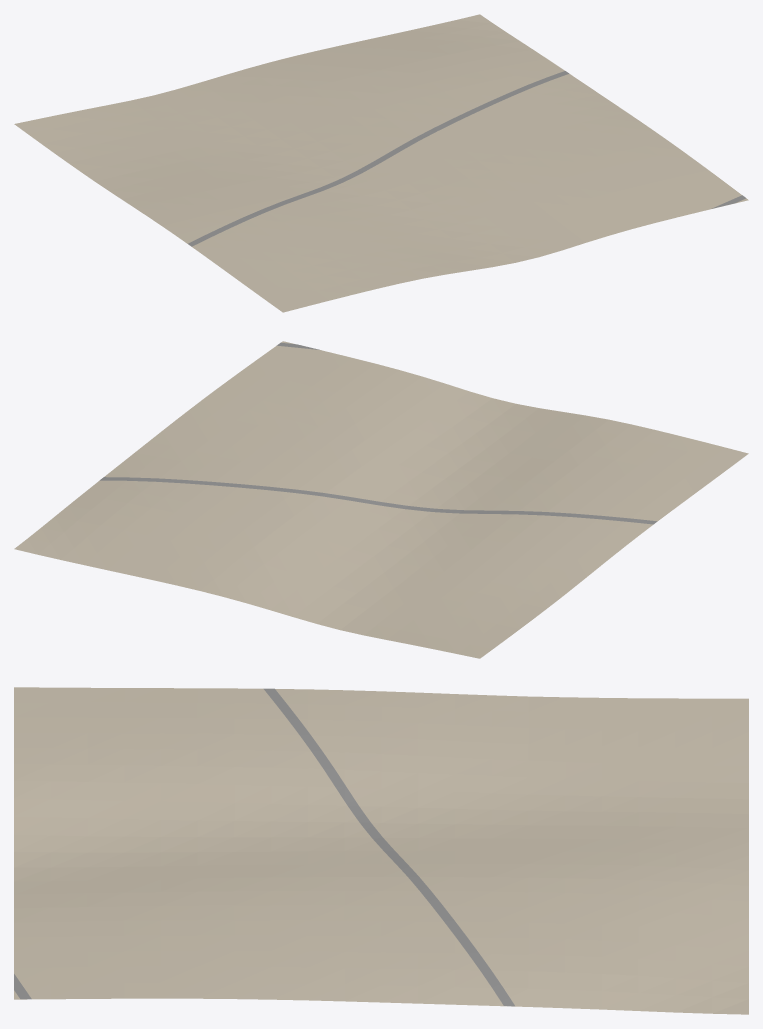
Rendered from bolak_-27_3.glb.
The picture shows the model from 3 angles, top to bottom: view 1: azimuth 30°, elevation 25°; view 2: azimuth 150°, elevation 25°; view 3: azimuth 270°, elevation 25°; orthographic projection. The views are drawn at different scales.
Parts seen in each view (by area): view 1: Yer_Tuproq-col, Yol_Mahalla-col; view 2: Yer_Tuproq-col, Yol_Mahalla-col; view 3: Yer_Tuproq-col, Yol_Mahalla-col.
Boxes of the visible parts, x1,y1,x2,y2 form: Yer_Tuproq-col: (14, 14, 748, 312); Yol_Mahalla-col: (188, 71, 746, 246); Yer_Tuproq-col: (14, 341, 748, 658); Yol_Mahalla-col: (99, 342, 657, 524); Yer_Tuproq-col: (14, 687, 748, 1014); Yol_Mahalla-col: (14, 688, 514, 1006).
Size of what is drawn, in the model's own units: 400 by 11.97 by 400.
